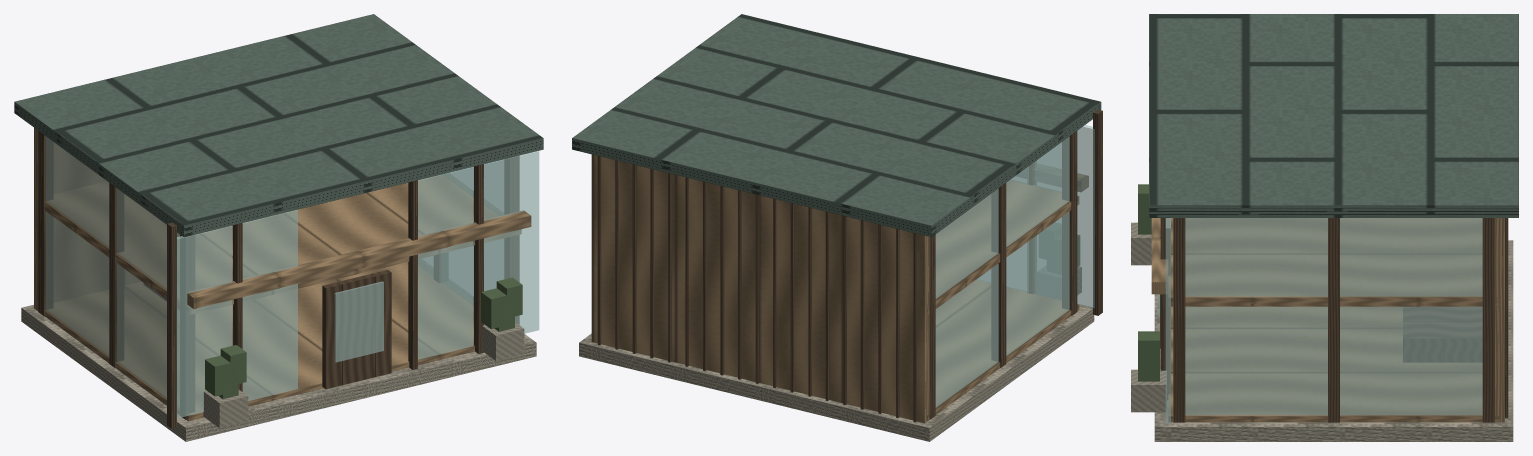
File: community_hall.glb
3 renders of one model, left to right at view 1: azimuth 30°, elevation 25°; view 2: azimuth 150°, elevation 25°; view 3: azimuth 270°, elevation 25°, orthographic. The views are drawn at different scales.
Visible parts, largest first — view 1: roof, front_window (×4), timber_floor, side_glass (×2), upper_floor, foundation, timber_post (×4), door, front_mullion (×4), lintel, rear_wall, door_glass (+2 smaller); view 2: roof, rear_wall, side_glass, rear_timber_slat (×19), foundation, timber_floor, upper_floor, front_window (×2), timber_post (×3), front_mullion; view 3: roof, side_glass, timber_floor, upper_floor, foundation, timber_post (×3), stage_nook, rear_wall, planter (×2), front_mullion, plant (×2), front_window (+2 smaller).
Boxes of the visible parts, x1,y1,x2,y2 form: roof: [14, 14, 543, 237]; front_window (×4): [177, 151, 539, 418]; timber_floor: [36, 262, 474, 421]; side_glass (×2): [46, 136, 503, 407]; upper_floor: [37, 175, 521, 314]; foundation: [21, 297, 536, 441]; timber_post (×4): [38, 131, 519, 419]; door: [322, 270, 391, 388]; front_mullion (×4): [167, 164, 483, 428]; lintel: [186, 210, 531, 308]; rear_wall: [34, 128, 140, 311]; door_glass: [334, 281, 383, 362]; roof: [572, 14, 1101, 237]; rear_wall: [591, 154, 929, 423]; side_glass: [935, 136, 1069, 407]; rear_timber_slat (×19): [597, 156, 916, 422]; foundation: [579, 304, 1094, 441]; timber_floor: [927, 280, 1079, 420]; upper_floor: [927, 180, 1078, 314]; front_window (×2): [977, 125, 1094, 307]; timber_post (×3): [929, 131, 1077, 419]; front_mullion: [1093, 109, 1102, 315]; roof: [1149, 14, 1518, 217]; side_glass: [1185, 218, 1482, 415]; timber_floor: [1168, 306, 1499, 422]; upper_floor: [1168, 218, 1499, 306]; foundation: [1154, 240, 1513, 441]; timber_post (×3): [1173, 218, 1494, 422]; stage_nook: [1403, 307, 1482, 362]; rear_wall: [1494, 218, 1504, 422]; planter (×2): [1131, 222, 1166, 412]; front_mullion: [1160, 218, 1170, 399]; plant (×2): [1138, 185, 1159, 373]; front_window: [1165, 218, 1170, 423].
Bounding box in the file's own units: 8.44 × 4.78 × 7.02.
7 materials, 6 textured.
